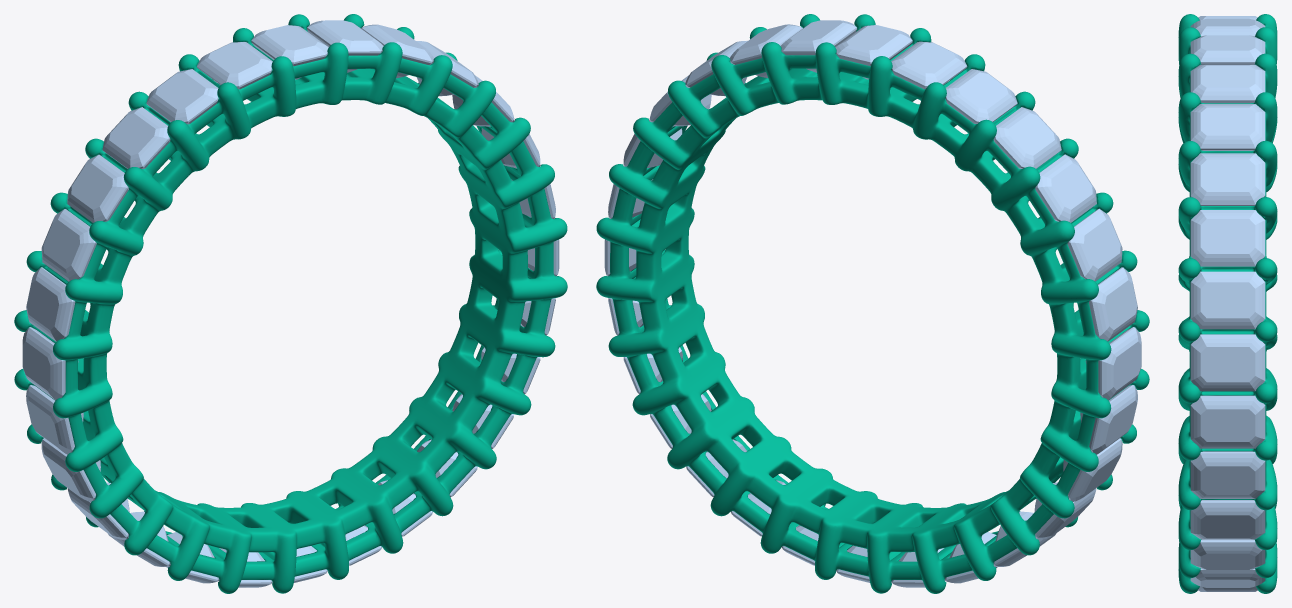
The model's file is BE2DEM200ELC_RENDER.glb.
The picture shows the model from 3 angles, left to right: view 1: azimuth 30°, elevation 25°; view 2: azimuth 150°, elevation 25°; view 3: azimuth 270°, elevation 25°; orthographic projection. The views are drawn at different scales.
Visible parts, largest first — view 1: Metal03, Diamond_Emerald_Gem_BD.023, Diamond_Emerald_Gem_BD.024, Diamond_Emerald_Gem_BD.022, Diamond_Emerald_Gem_BD.025, Diamond_Emerald_Gem_BD.021, Diamond_Emerald_Gem_BD.026, Diamond_Emerald_Gem_BD.020, Diamond_Emerald_Gem_BD.027, Diamond_Emerald_Gem_BD.019, Diamond_Emerald_Gem_BD, Diamond_Emerald_Gem_BD.018 (+3 smaller); view 2: Metal03, Diamond_Emerald_Gem_BD.023, Diamond_Emerald_Gem_BD.024, Diamond_Emerald_Gem_BD.022, Diamond_Emerald_Gem_BD.025, Diamond_Emerald_Gem_BD.021, Diamond_Emerald_Gem_BD.026, Diamond_Emerald_Gem_BD.020, Diamond_Emerald_Gem_BD.027, Diamond_Emerald_Gem_BD.019, Diamond_Emerald_Gem_BD, Diamond_Emerald_Gem_BD.018 (+3 smaller); view 3: Metal03, Diamond_Emerald_Gem_BD.004, Diamond_Emerald_Gem_BD.005, Diamond_Emerald_Gem_BD.003, Diamond_Emerald_Gem_BD.006, Diamond_Emerald_Gem_BD.002, Diamond_Emerald_Gem_BD.007, Diamond_Emerald_Gem_BD.001, Diamond_Emerald_Gem_BD.008, Diamond_Emerald_Gem_BD, Diamond_Emerald_Gem_BD.009, Diamond_Emerald_Gem_BD.027 (+4 smaller).
Part boxes in pixels (<box>): Metal03: <box>14,14,567,593</box>; Diamond_Emerald_Gem_BD.023: <box>67,154,128,222</box>; Diamond_Emerald_Gem_BD.024: <box>102,107,170,169</box>; Diamond_Emerald_Gem_BD.022: <box>41,209,96,281</box>; Diamond_Emerald_Gem_BD.025: <box>146,69,218,124</box>; Diamond_Emerald_Gem_BD.021: <box>26,267,75,341</box>; Diamond_Emerald_Gem_BD.026: <box>197,42,272,89</box>; Diamond_Emerald_Gem_BD.020: <box>22,327,78,400</box>; Diamond_Emerald_Gem_BD.027: <box>251,25,328,79</box>; Diamond_Emerald_Gem_BD.019: <box>26,385,83,454</box>; Diamond_Emerald_Gem_BD: <box>307,20,383,72</box>; Diamond_Emerald_Gem_BD.018: <box>41,438,100,501</box>; Metal03: <box>596,14,1149,593</box>; Diamond_Emerald_Gem_BD.023: <box>1035,154,1096,222</box>; Diamond_Emerald_Gem_BD.024: <box>993,107,1061,168</box>; Diamond_Emerald_Gem_BD.022: <box>1067,208,1122,281</box>; Diamond_Emerald_Gem_BD.025: <box>945,69,1017,123</box>; Diamond_Emerald_Gem_BD.021: <box>1089,267,1137,341</box>; Diamond_Emerald_Gem_BD.026: <box>891,41,967,89</box>; Diamond_Emerald_Gem_BD.020: <box>1085,327,1141,400</box>; Diamond_Emerald_Gem_BD.027: <box>835,25,912,79</box>; Diamond_Emerald_Gem_BD.019: <box>1080,385,1137,454</box>; Diamond_Emerald_Gem_BD: <box>780,20,856,72</box>; Diamond_Emerald_Gem_BD.018: <box>1063,438,1122,501</box>; Metal03: <box>1178,14,1277,593</box>; Diamond_Emerald_Gem_BD.004: <box>1190,271,1265,329</box>; Diamond_Emerald_Gem_BD.005: <box>1190,334,1265,391</box>; Diamond_Emerald_Gem_BD.003: <box>1190,210,1265,266</box>; Diamond_Emerald_Gem_BD.006: <box>1190,395,1265,448</box>; Diamond_Emerald_Gem_BD.002: <box>1190,153,1265,205</box>; Diamond_Emerald_Gem_BD.007: <box>1190,451,1265,498</box>; Diamond_Emerald_Gem_BD.001: <box>1190,104,1265,150</box>; Diamond_Emerald_Gem_BD.008: <box>1190,500,1265,539</box>; Diamond_Emerald_Gem_BD: <box>1190,64,1265,103</box>; Diamond_Emerald_Gem_BD.009: <box>1190,539,1265,569</box>; Diamond_Emerald_Gem_BD.027: <box>1190,35,1265,64</box>.
Size of the model in its own units: 21.03 by 21.03 by 3.59.
